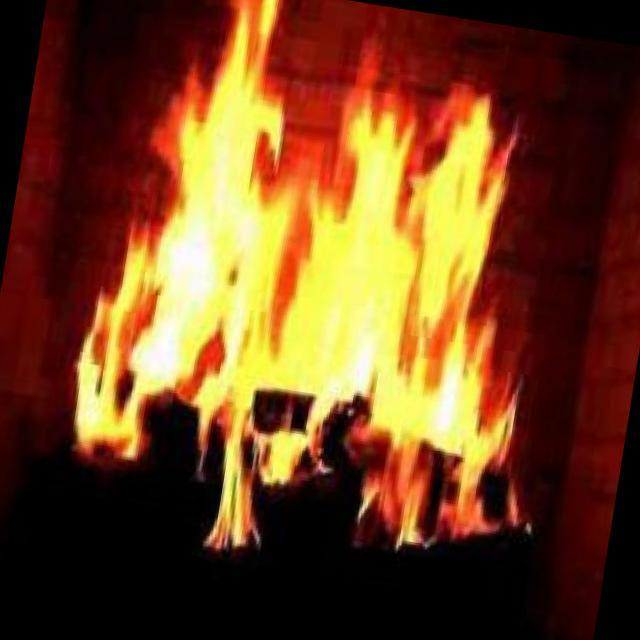Fire: (84, 71, 497, 523)
